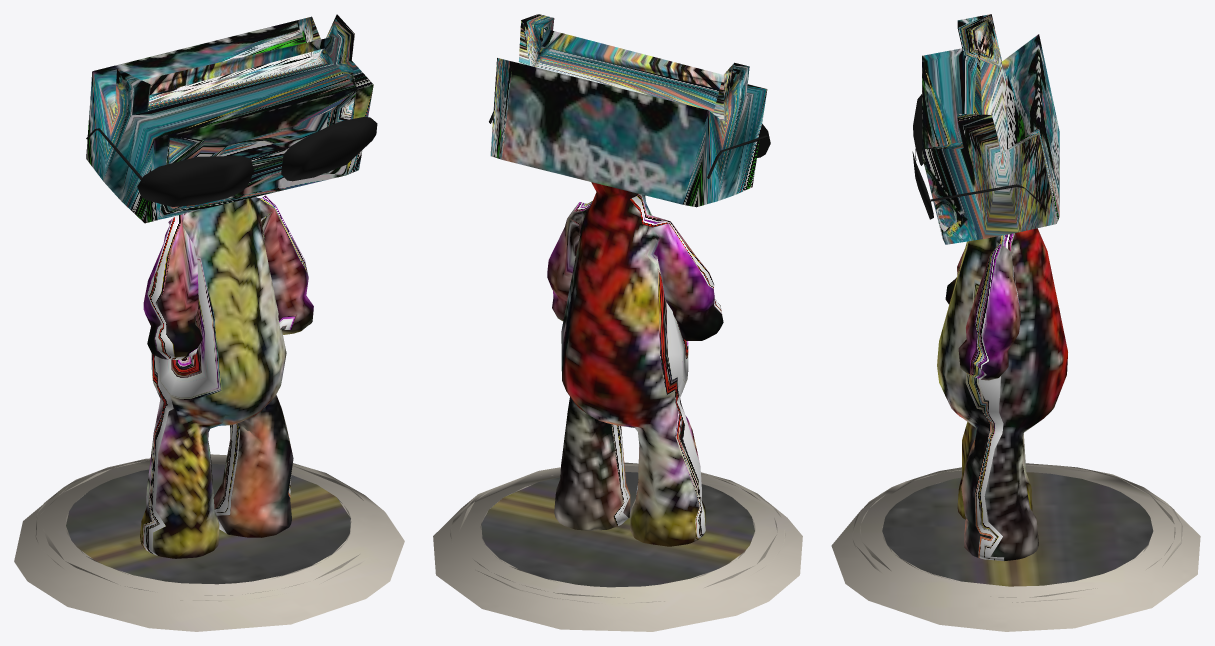
3 renders of one model, left to right at view 1: azimuth 30°, elevation 25°; view 2: azimuth 150°, elevation 25°; view 3: azimuth 270°, elevation 25°, orthographic. The views are drawn at different scales.
Size of the model in its own units: 1.44 by 2.09 by 1.43.
5 materials, 4 textured.
